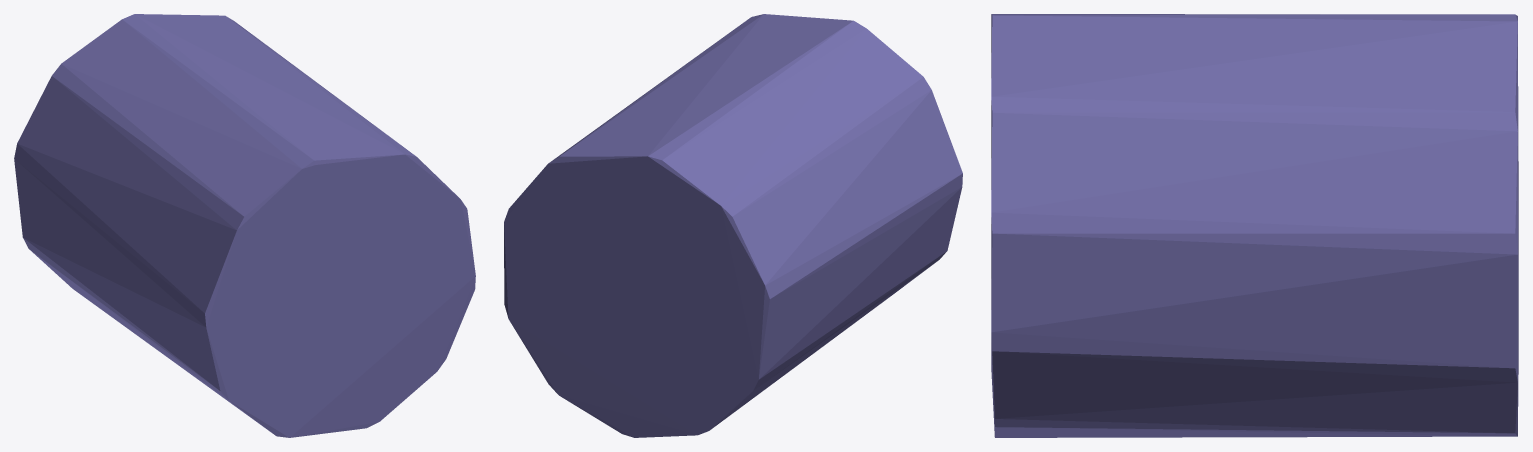
The model's file is handTool_socket_7_8in_a01.glb.
3 renders of one model, left to right at view 1: azimuth 30°, elevation 25°; view 2: azimuth 150°, elevation 25°; view 3: azimuth 270°, elevation 25°, orthographic. The views are drawn at different scales.
Visible parts, largest first — view 1: geometry_0; view 2: geometry_0; view 3: geometry_0.
Boxes of the visible parts, <box> form: geometry_0: <box>14,14,475,437</box>; geometry_0: <box>504,14,962,437</box>; geometry_0: <box>991,14,1518,437</box>.
Size of the model in its own units: 0.3869 by 0.3902 by 0.48.
